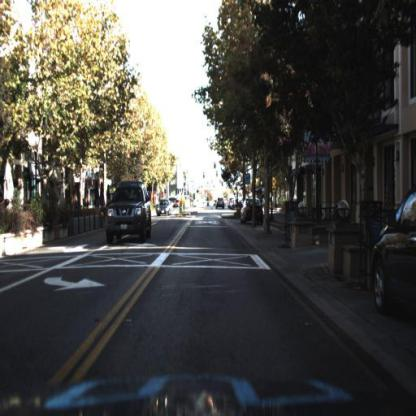car: (371, 186, 416, 333), (103, 179, 156, 245), (106, 182, 153, 245), (240, 195, 263, 229), (154, 197, 174, 218), (216, 194, 228, 215)
